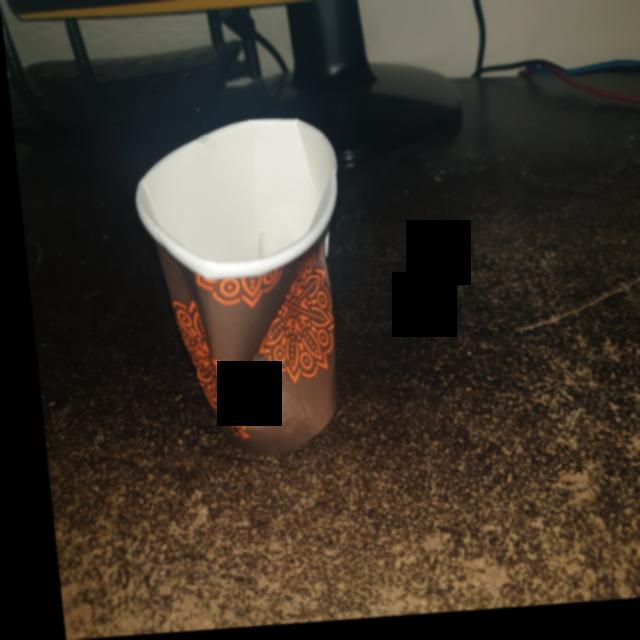cups: (119, 115, 363, 471)
